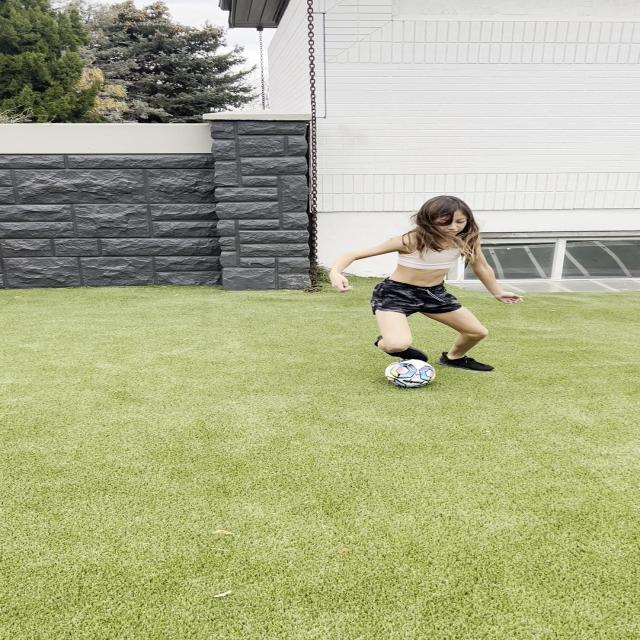Soccer Ball: (385, 358, 436, 388)
